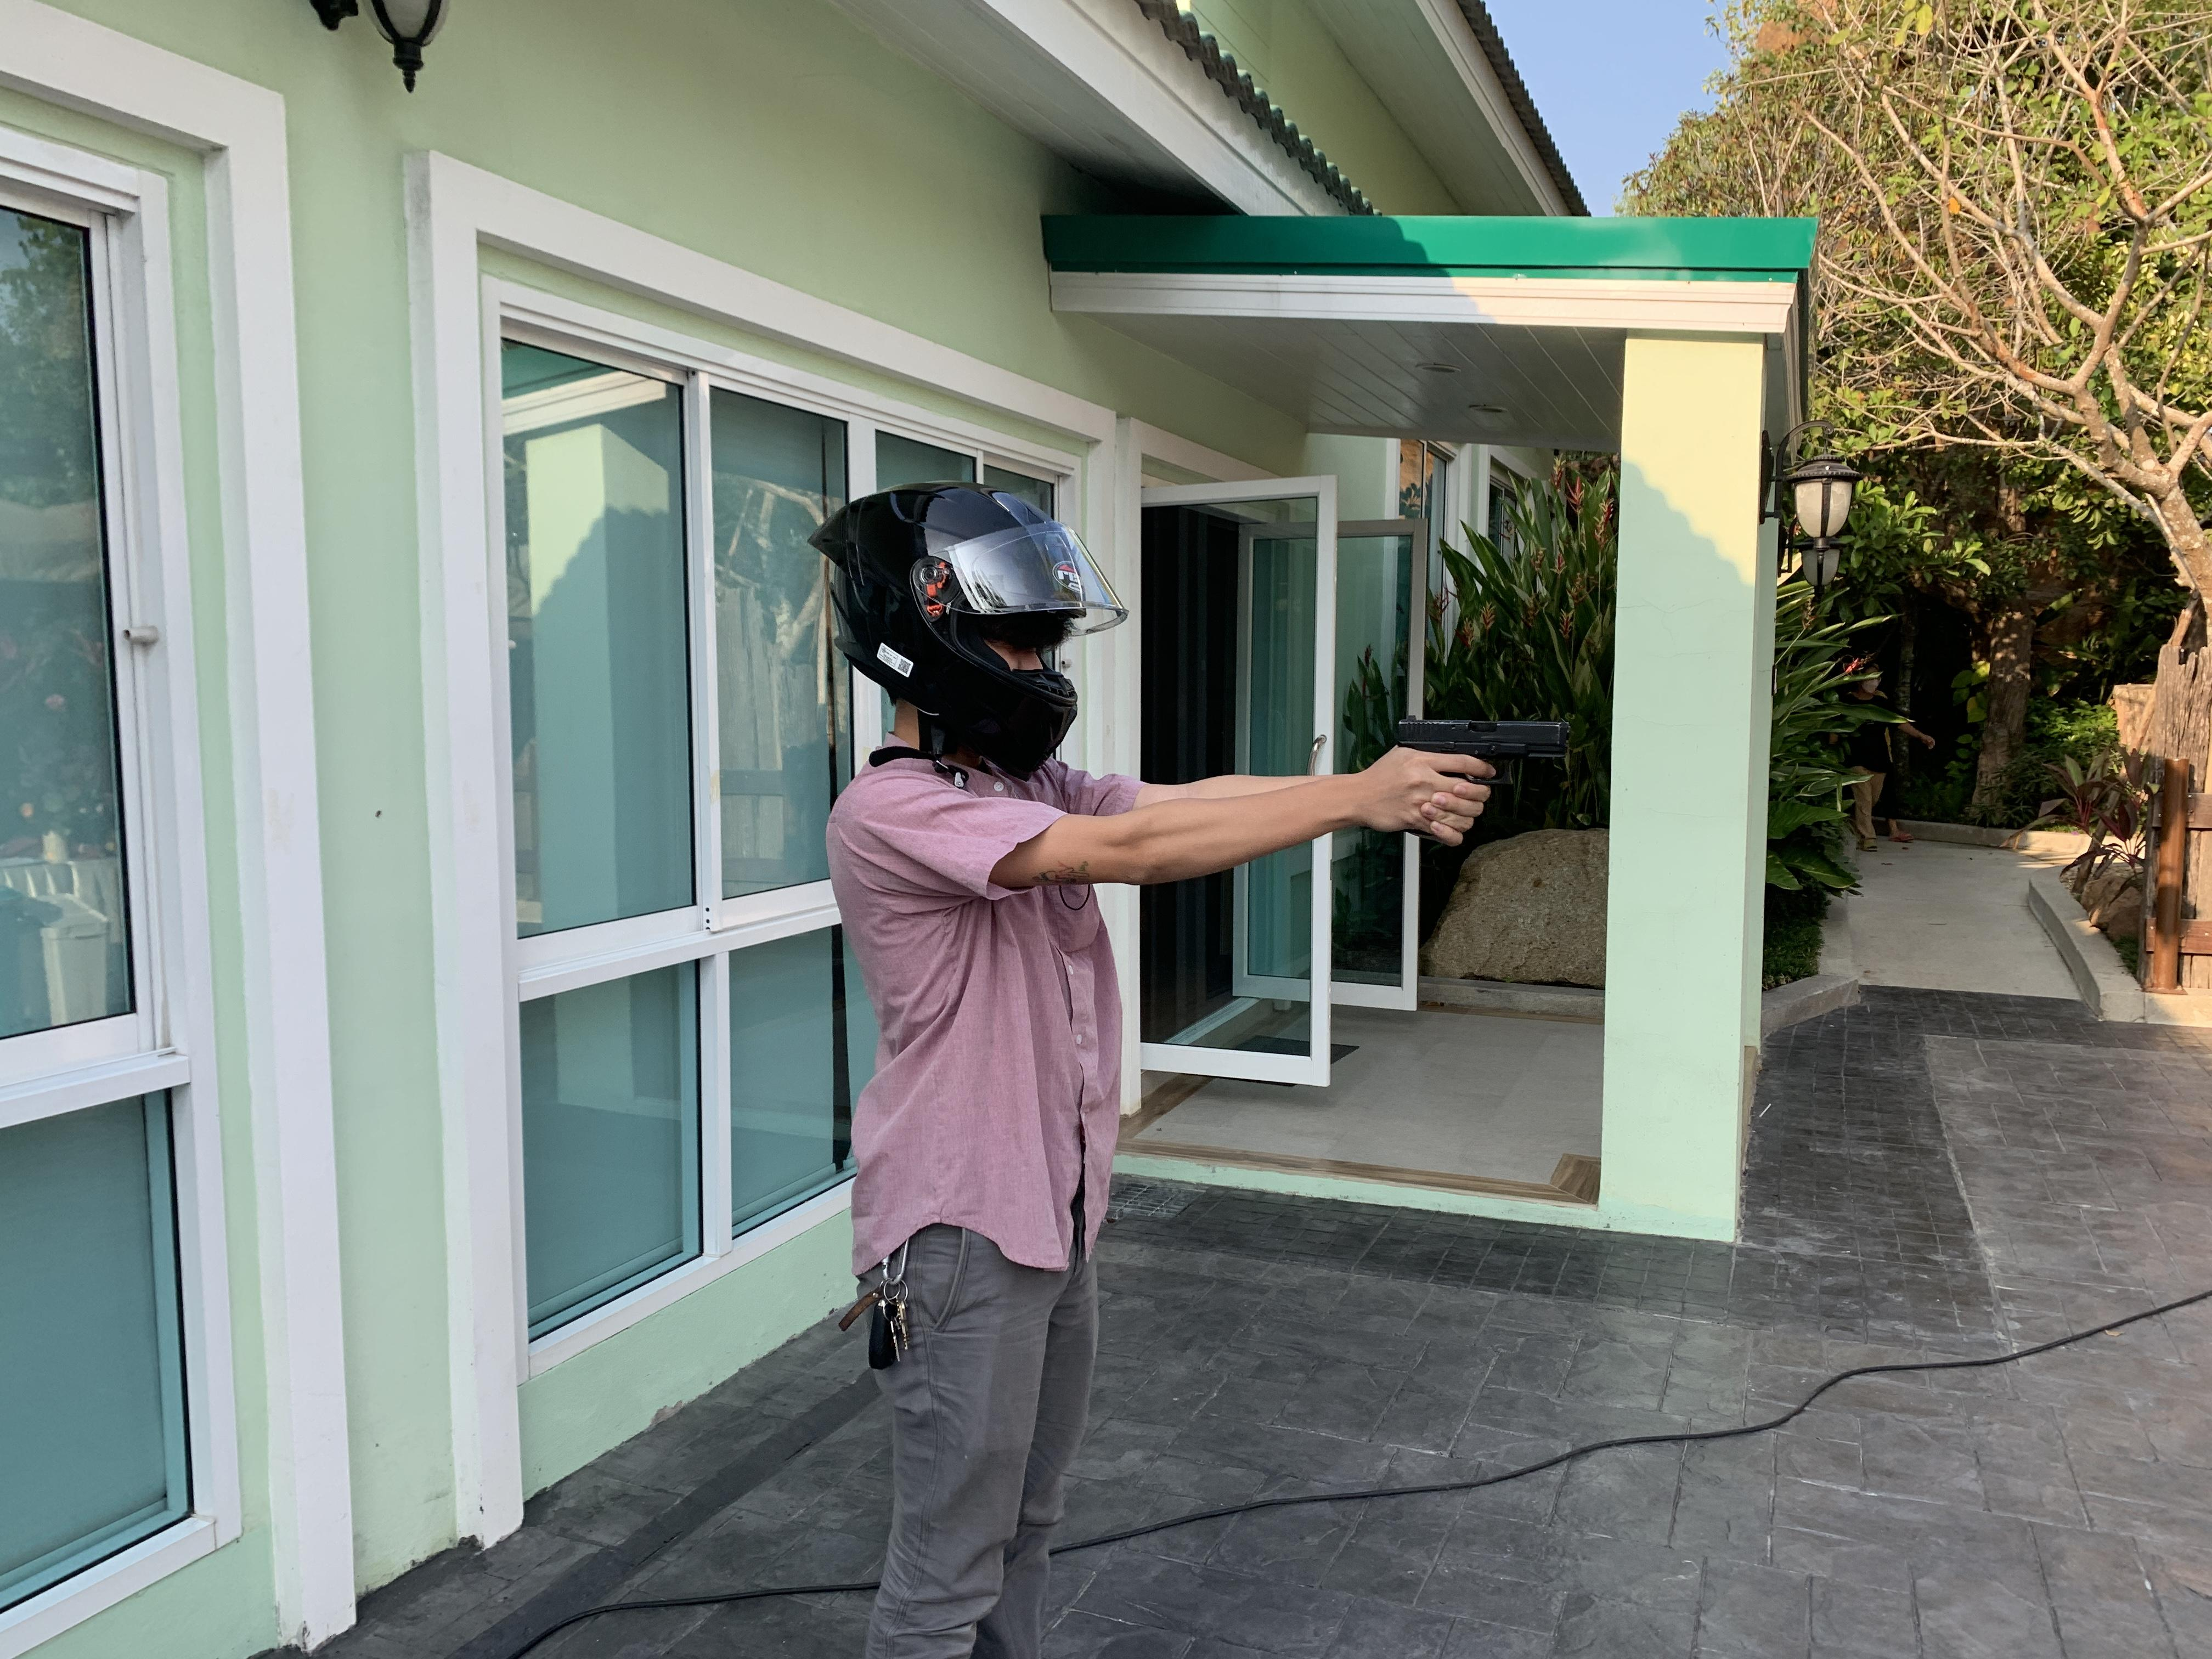criminal: (806, 477, 1569, 1656)
weapon: (1383, 708, 1573, 774)
